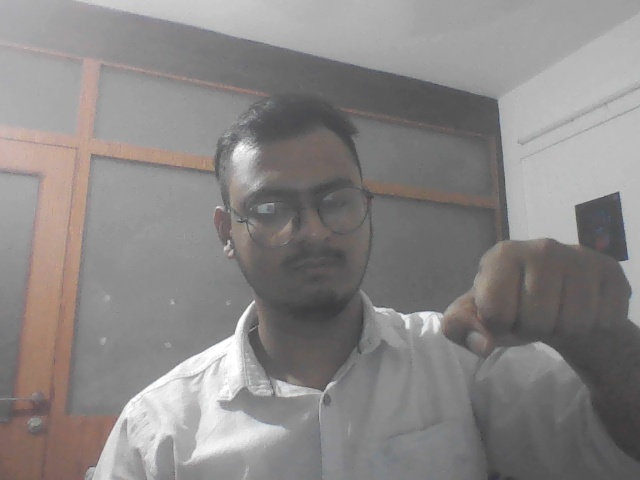YES: (436, 226, 640, 376)
